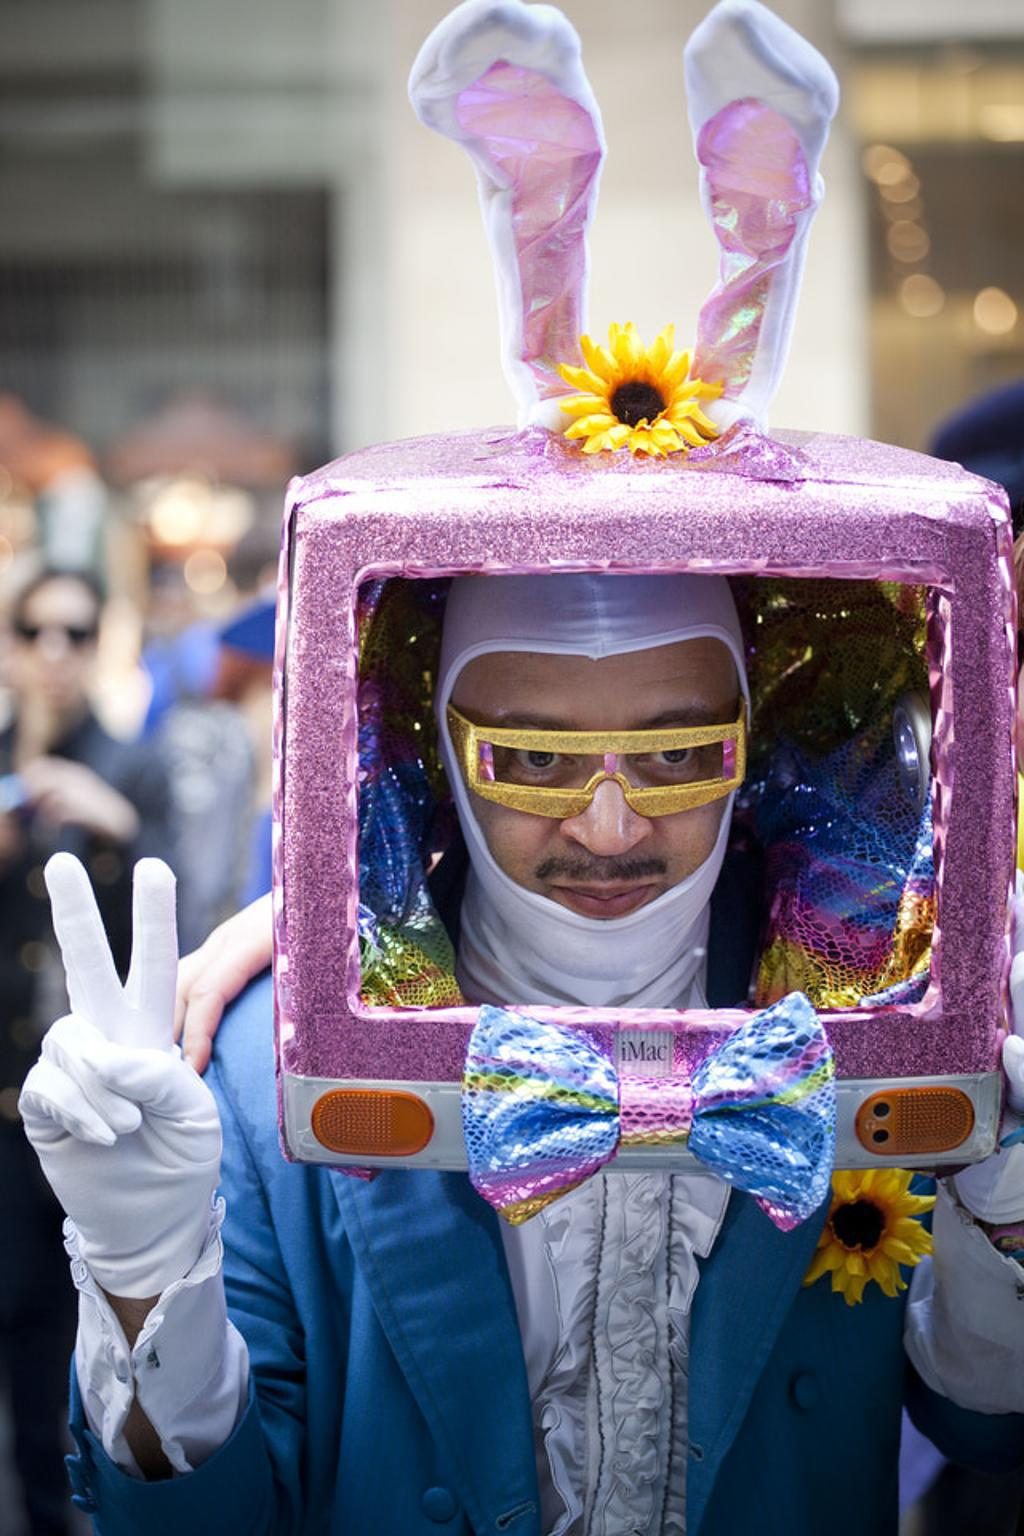face: (445, 614, 730, 968)
